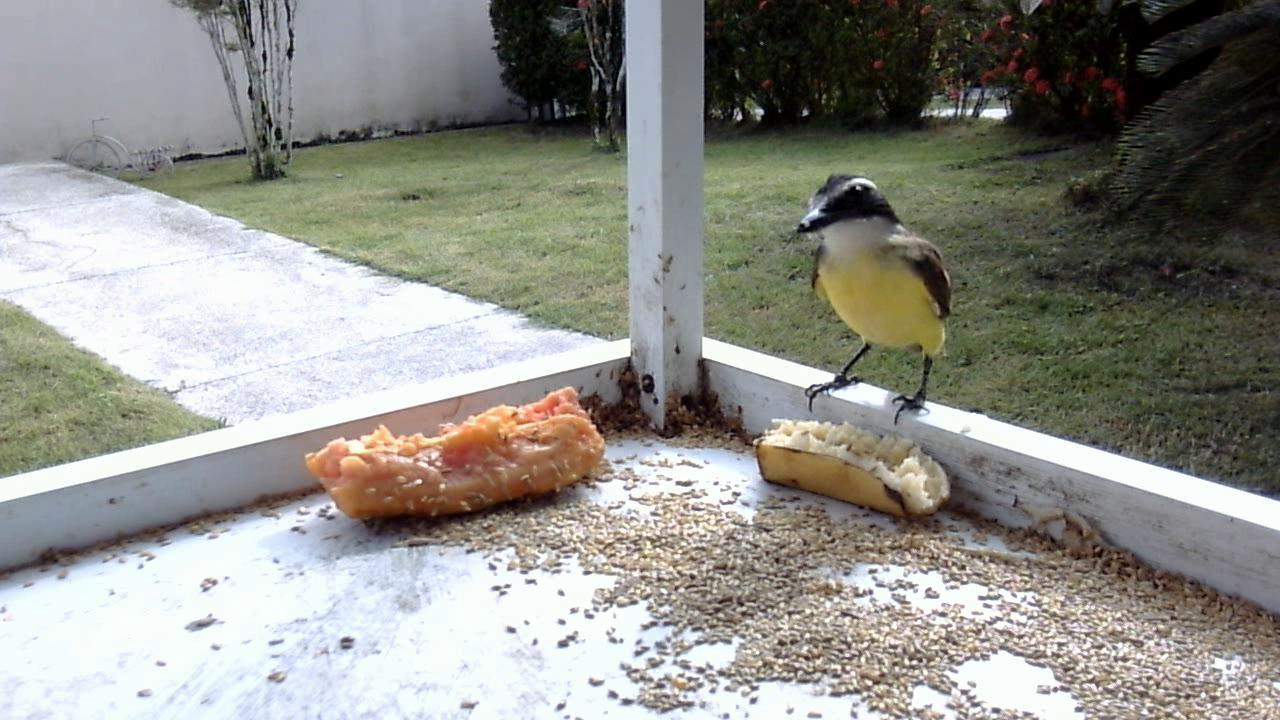bem_te_vi: (788, 171, 960, 430)
